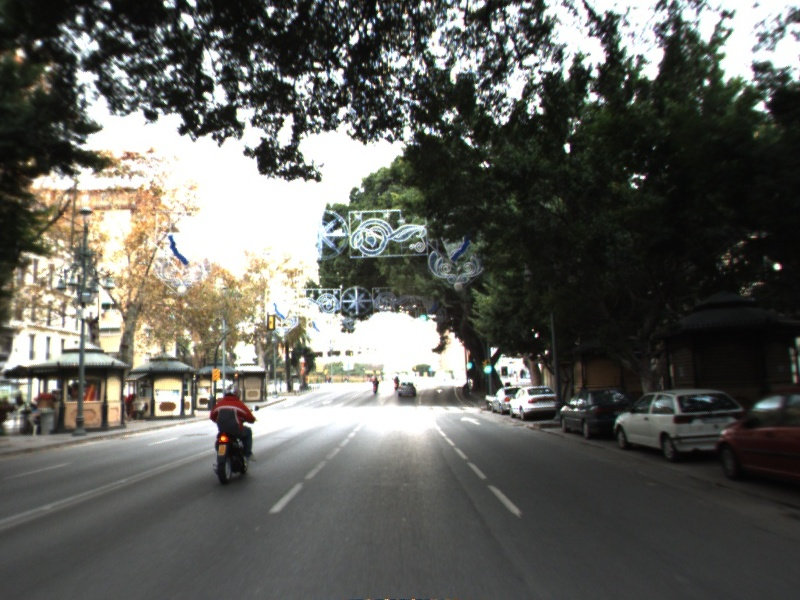STRAIGHT: (458, 414, 483, 427)
